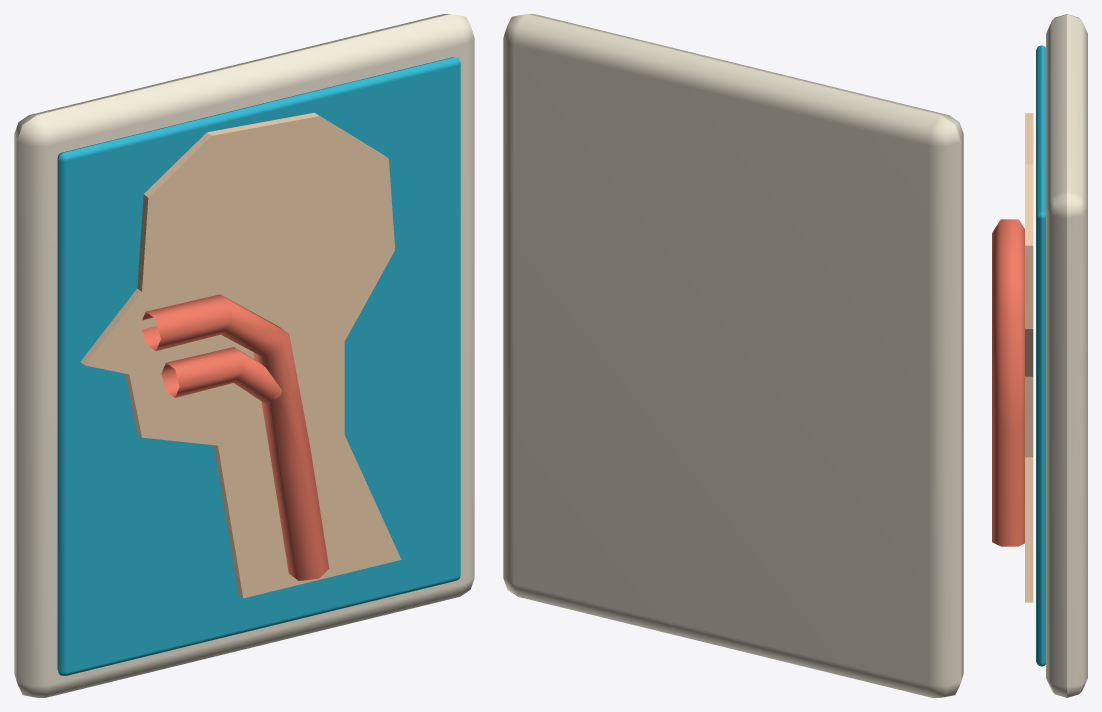
File: Clinical_Art_Airway.glb
3 views of the same model, side by side, from view 1: azimuth 30°, elevation 25°; view 2: azimuth 150°, elevation 25°; view 3: azimuth 270°, elevation 25° (orthographic). The views are drawn at different scales.
Parts seen in each view (by area): view 1: Clinical_Art_Airway_blue, Clinical_Art_Airway_skin, Clinical_Art_Airway_cream, Clinical_Art_Airway_coral; view 2: Clinical_Art_Airway_cream; view 3: Clinical_Art_Airway_cream, Clinical_Art_Airway_coral, Clinical_Art_Airway_blue, Clinical_Art_Airway_skin.
Part boxes in pixels (x1=…): Clinical_Art_Airway_blue: x1=57, y1=57, x2=460, y2=675; Clinical_Art_Airway_skin: x1=80, y1=112, x2=401, y2=598; Clinical_Art_Airway_cream: x1=14, y1=14, x2=474, y2=697; Clinical_Art_Airway_coral: x1=142, y1=294, x2=329, y2=580; Clinical_Art_Airway_cream: x1=503, y1=14, x2=963, y2=697; Clinical_Art_Airway_cream: x1=1046, y1=14, x2=1087, y2=697; Clinical_Art_Airway_coral: x1=992, y1=219, x2=1024, y2=546; Clinical_Art_Airway_blue: x1=1036, y1=45, x2=1045, y2=666; Clinical_Art_Airway_skin: x1=1025, y1=113, x2=1033, y2=602.
Size of the model in its own units: 0.72 by 0.88 by 0.151.
